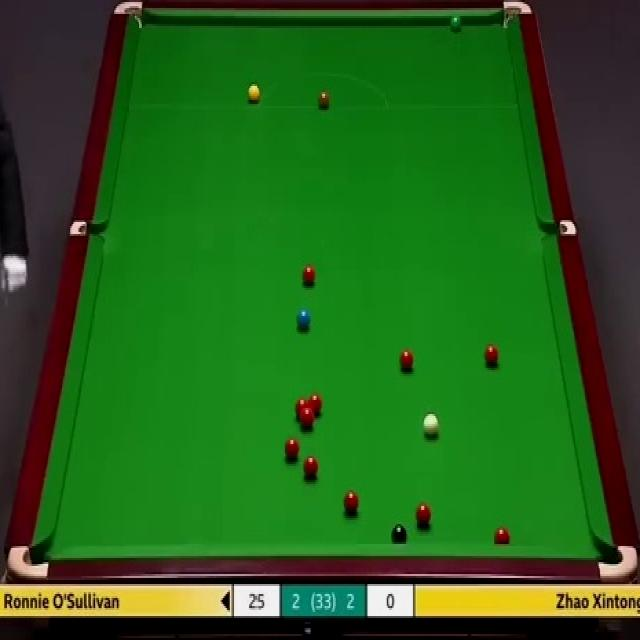black-ball: (392, 523, 408, 545)
blue-ball: (296, 308, 312, 329)
brown-ball: (318, 88, 330, 108)
green-ball: (450, 11, 463, 30)
red-ball: (303, 451, 320, 480), (398, 346, 415, 373), (344, 489, 360, 517), (415, 504, 432, 530), (284, 434, 298, 463), (484, 344, 498, 369), (294, 398, 308, 422), (309, 393, 322, 418), (493, 526, 511, 543), (300, 411, 316, 430), (303, 264, 316, 285)
white-ball: (421, 412, 441, 439)
yellow-ball: (247, 86, 259, 102)
